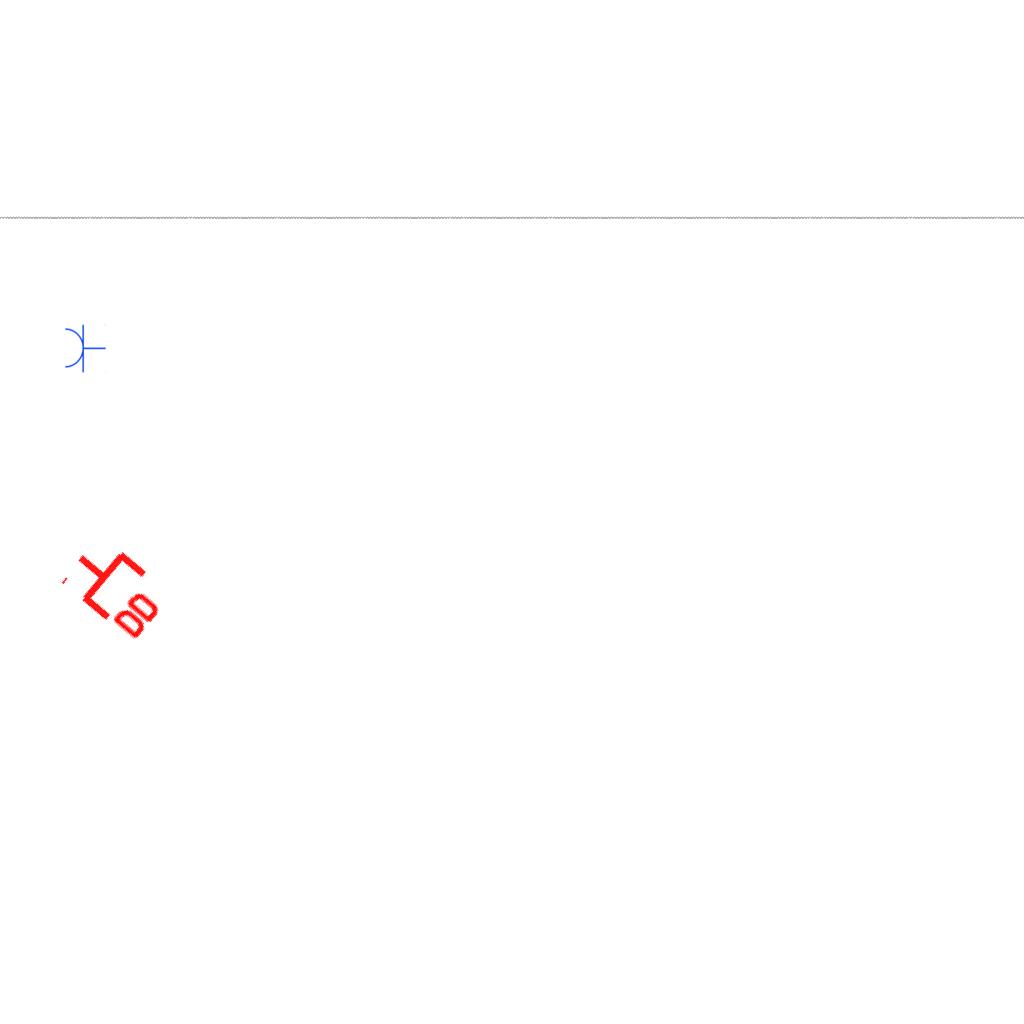Datenanschluss_zweifach: (56, 527, 181, 648)
Schukosteckdose_einfach: (63, 323, 106, 373)
